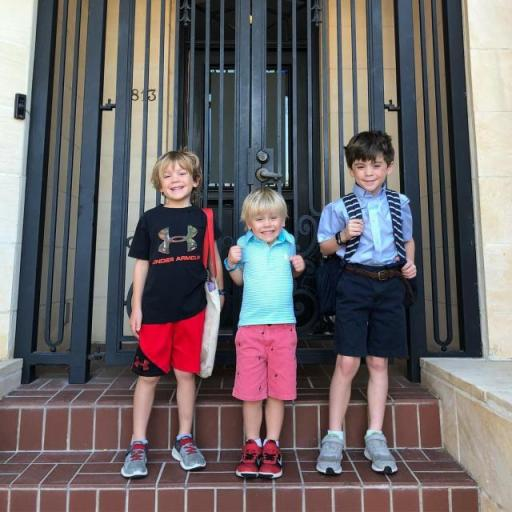Under Armour: (152, 222, 200, 264)
